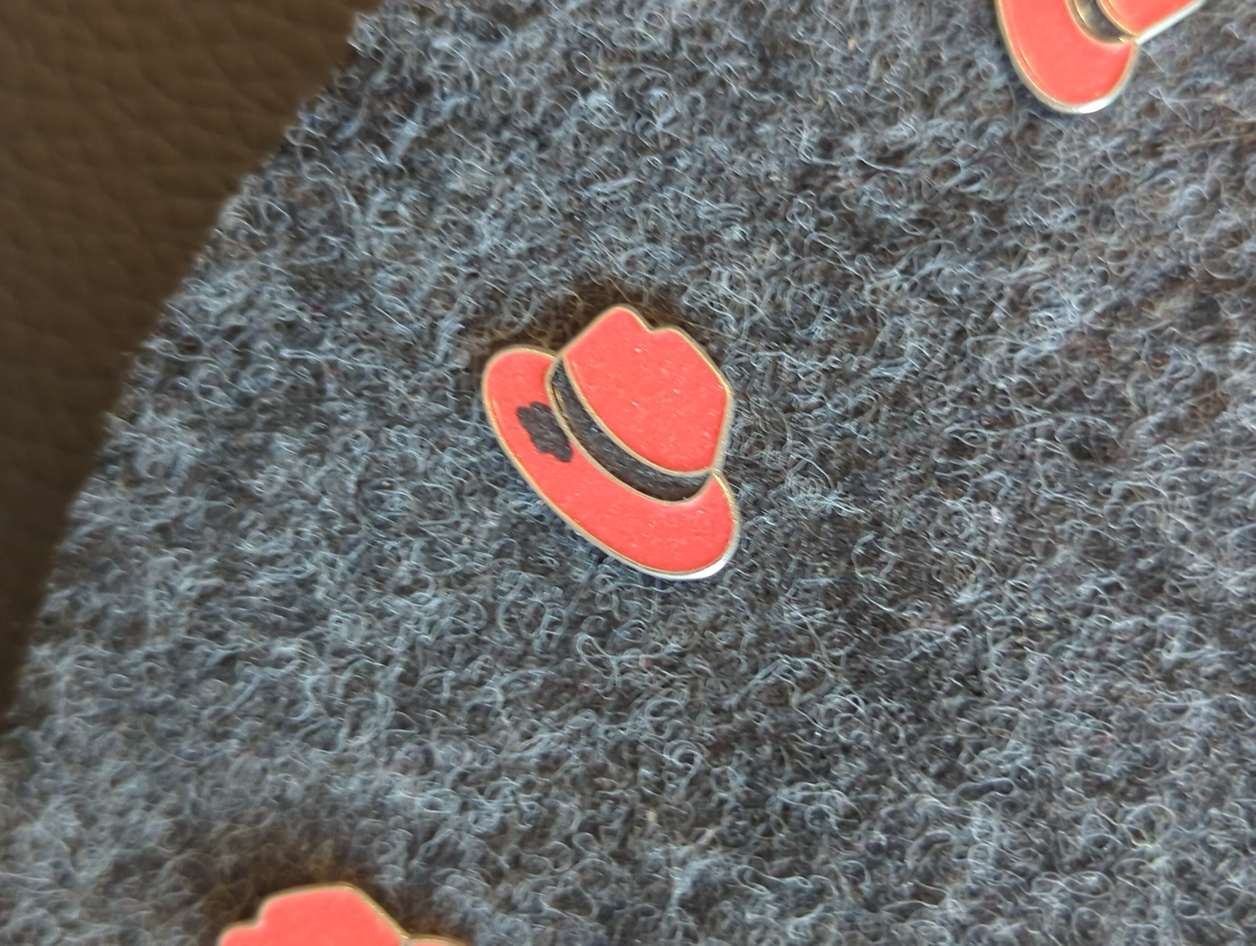Red-Hat: (396, 202, 921, 710)
Scratch: (501, 370, 616, 503)
